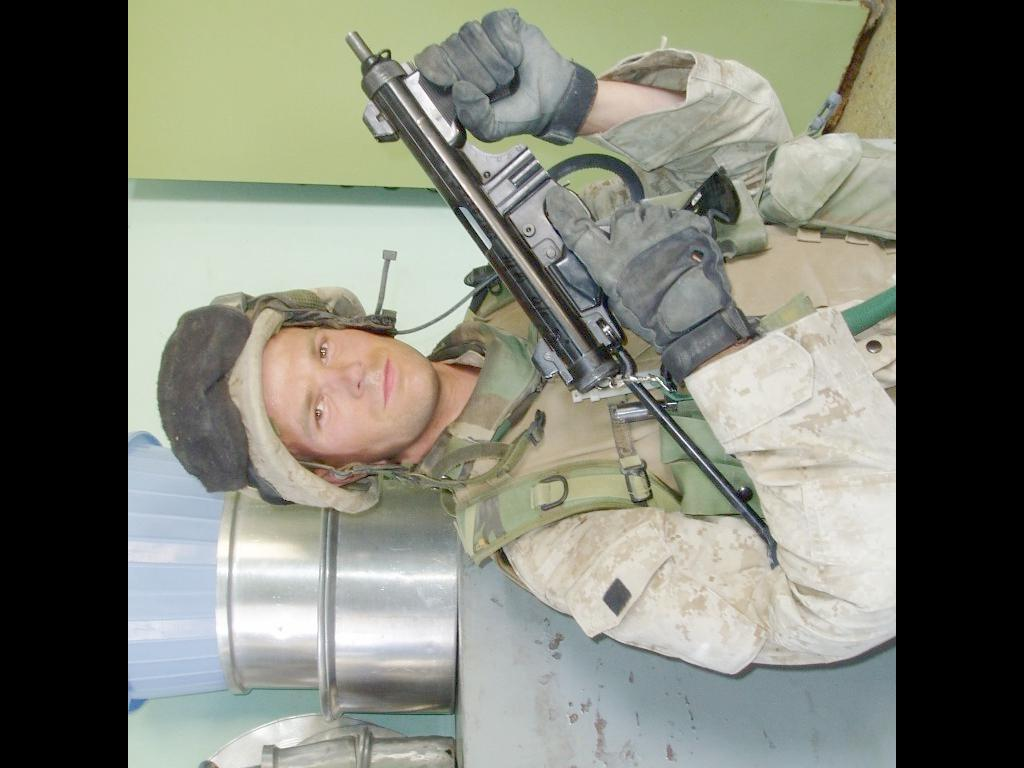gun: (341, 26, 649, 418)
